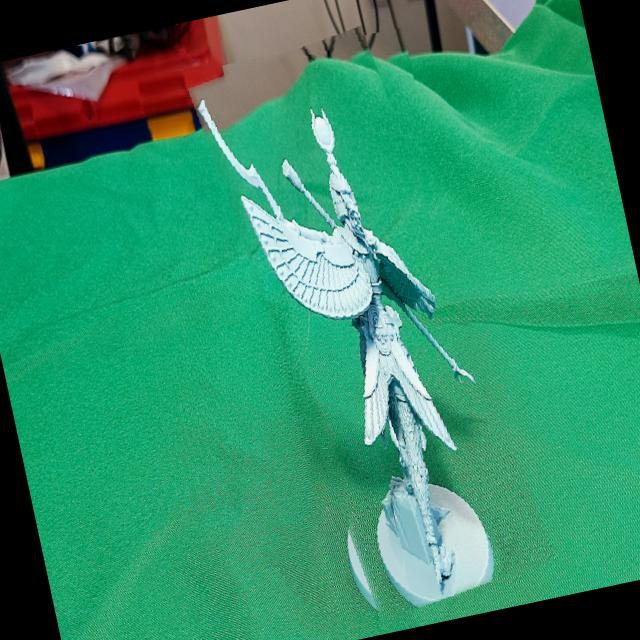isis: (202, 18, 541, 629)
